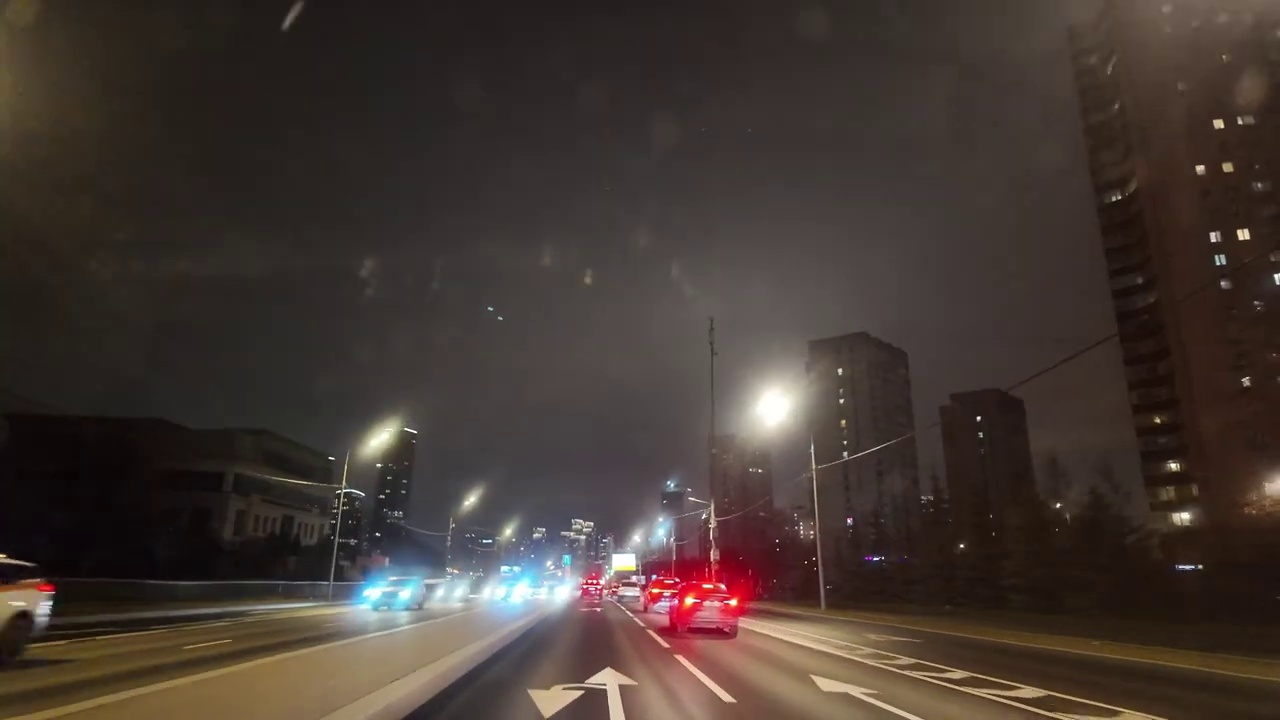acesa: (747, 379, 800, 434), (354, 416, 403, 466), (454, 483, 484, 518)
